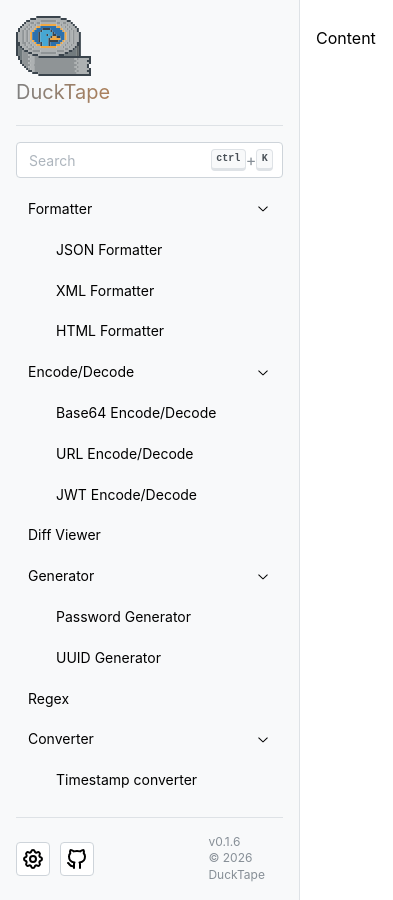
ApplicationLayout › clears input, opens dropdown and focuses input when ctrl+K is pressed
Note: Type something first to test clearing
Type "test" into the field with placeholder "Search" at x=150, y=160, box [16,142,283,178]
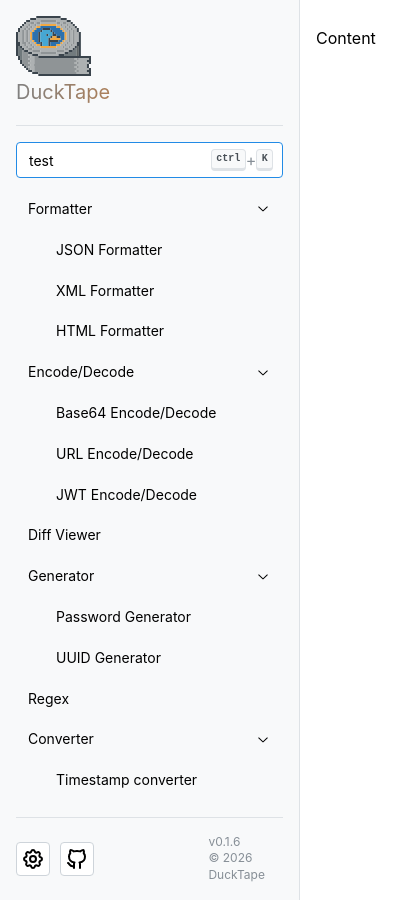
Type keys "{Control>}k{/Control}"
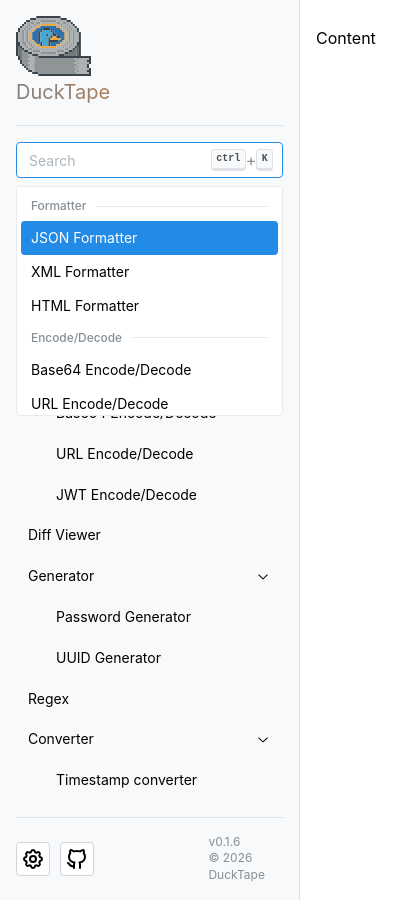
Result: the field with placeholder "Search" has attribute data-expanded at [16,142,283,178]
Result: the field with placeholder "Search" is empty at [16,142,283,178]
